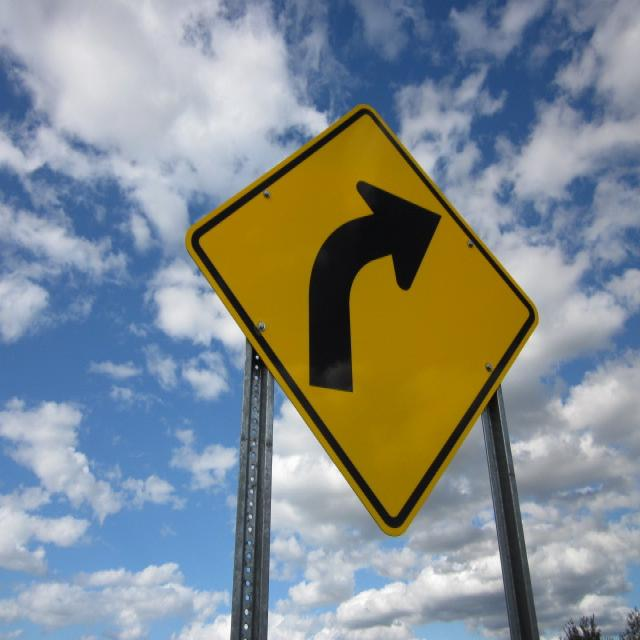warning: (194, 102, 542, 536)
